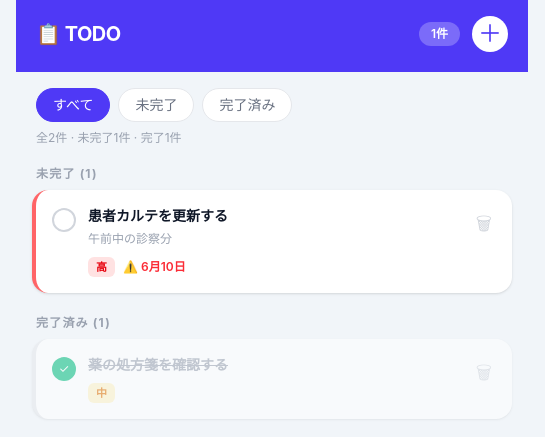
Test: Page コンポーネント — フィルター › 「完了済み」フィルターで完了済みのタスクのみ表示する
Expected: the text "患者カルテを更新する" is shown, [88,207,228,224]
Click the button "完了済み". click: [248, 105]
box: [202,88,292,122]
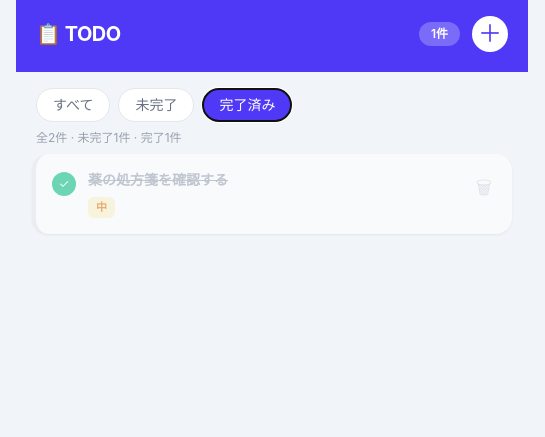
Expected: the text "薬の処方箋を確認する" is shown, [88,171,228,188]
Expected: the text "患者カルテを更新する" is gone
